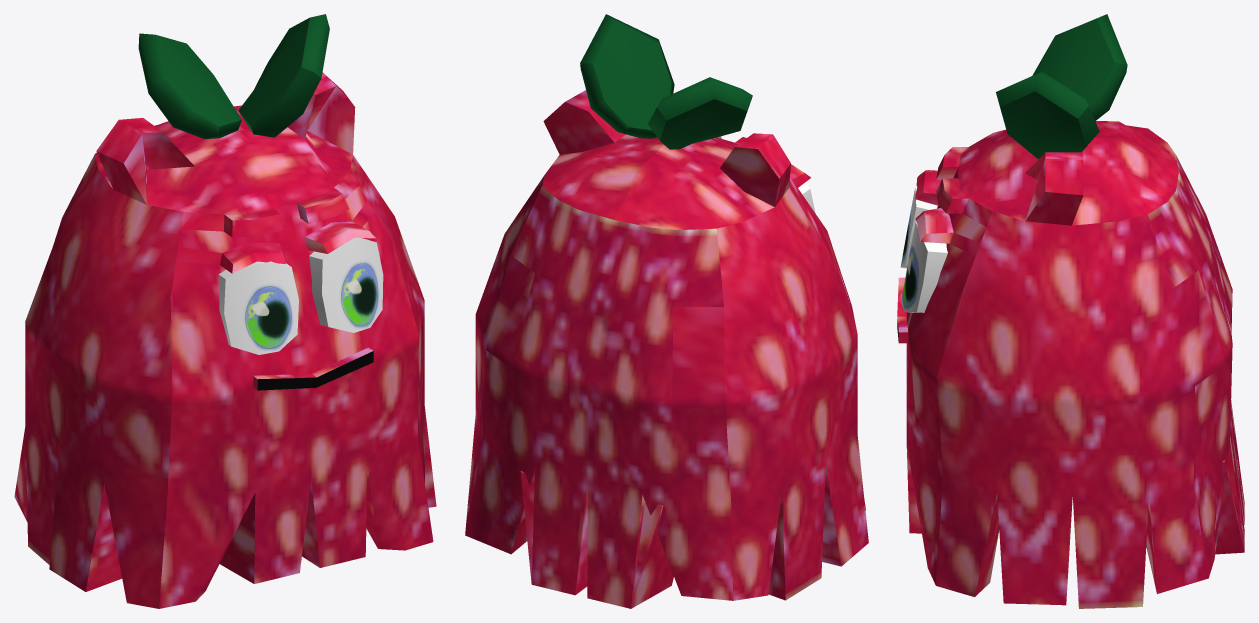
Rendered from strawberry_Character.fbx.
The picture shows the model from 3 angles, left to right: view 1: azimuth 30°, elevation 25°; view 2: azimuth 150°, elevation 25°; view 3: azimuth 270°, elevation 25°; orthographic projection. The views are drawn at different scales.
Visible parts, largest first — view 1: pCube17; view 2: pCube17; view 3: pCube17.
Boxes of the visible parts, x1,y1,x2,y2 form: pCube17: (14,14,436,608); pCube17: (465,14,868,608); pCube17: (897,14,1244,608).
Size of the model in its own units: 4.86 by 6.65 by 4.23.
4 materials, 2 textured.
